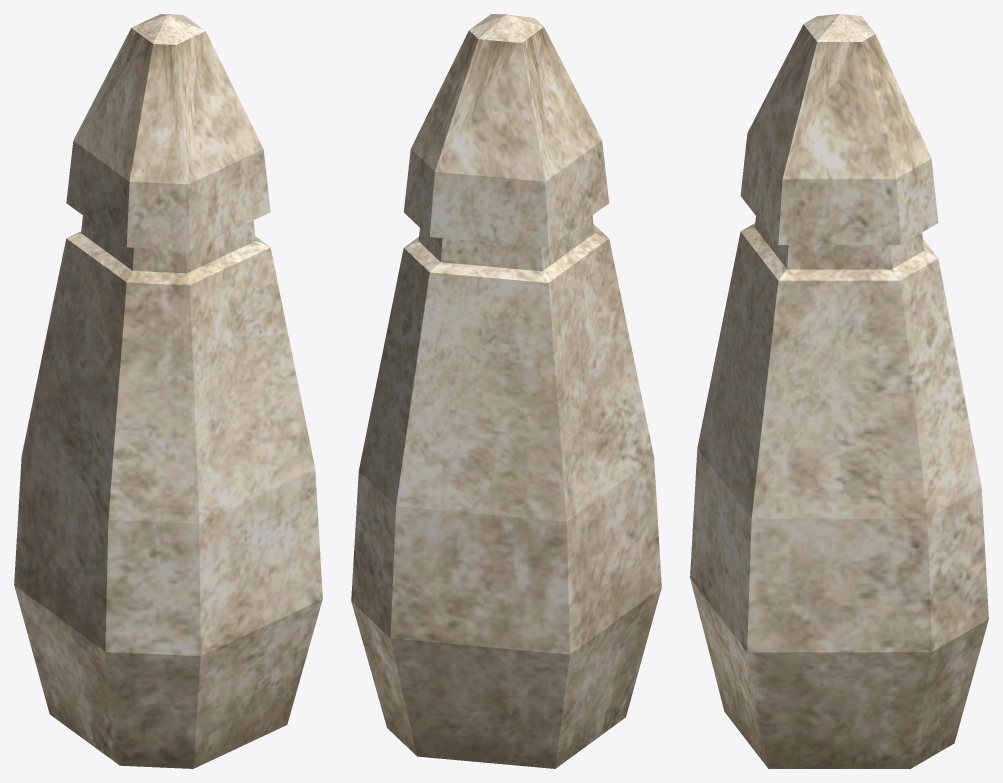
Rendered from thm_tato_jnkshp_pillar_l1.fbx.
The picture shows the model from 3 angles, left to right: view 1: azimuth 30°, elevation 25°; view 2: azimuth 150°, elevation 25°; view 3: azimuth 270°, elevation 25°; orthographic projection.
Visible parts, largest first — view 1: mesh_node; view 2: mesh_node; view 3: mesh_node.
Part boxes in pixels (x1,y1,x2,y2): mesh_node: [14, 14, 322, 768]; mesh_node: [351, 14, 661, 768]; mesh_node: [690, 14, 988, 768].
Bounding box in the file's own units: 1.76 × 5.45 × 2.07.
